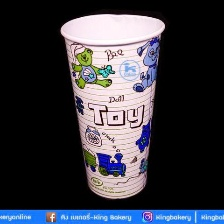paper_cup: (54, 9, 169, 203)
